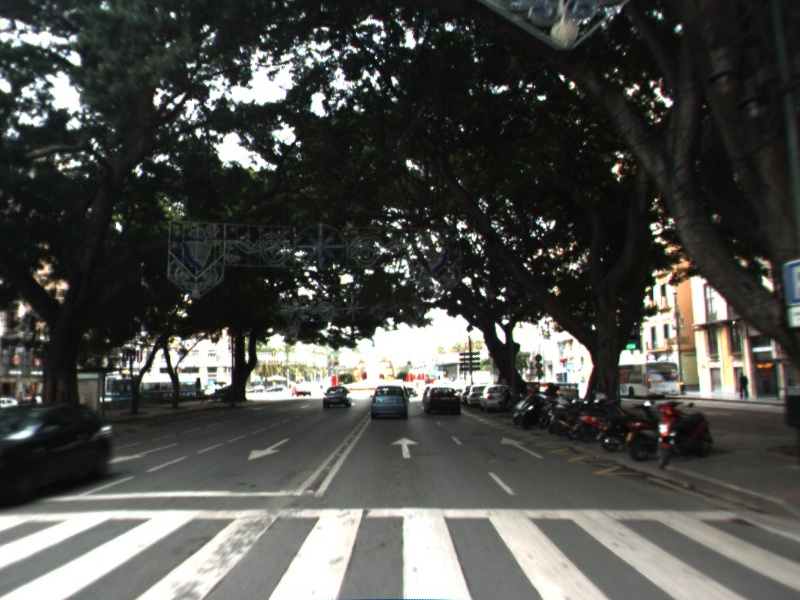STRAIGHT: (498, 434, 547, 461), (388, 435, 422, 460)
